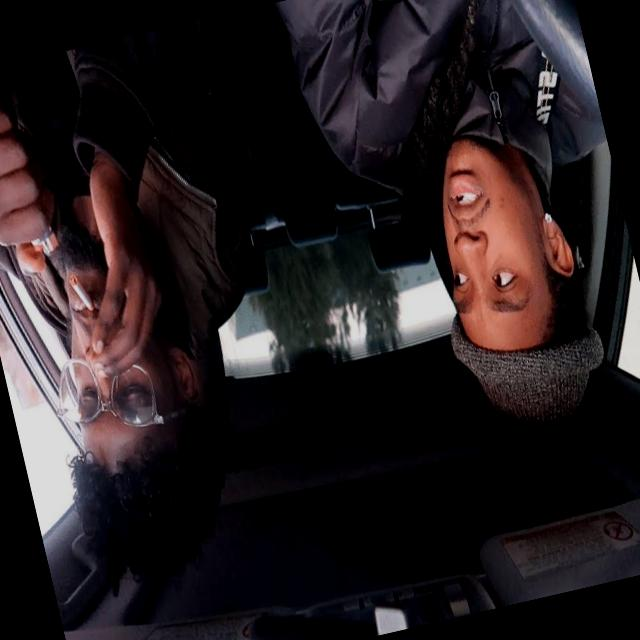smoke: (53, 244, 105, 328)
